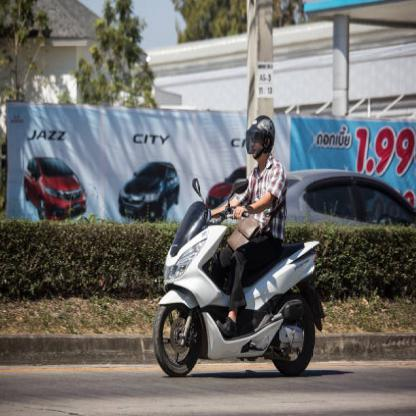Motorcycle: (153, 178, 318, 383)
